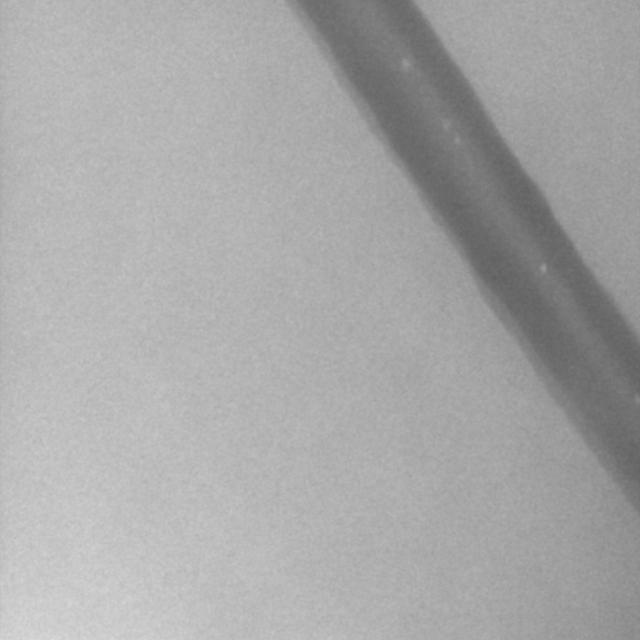air hole: (537, 259, 547, 275)
